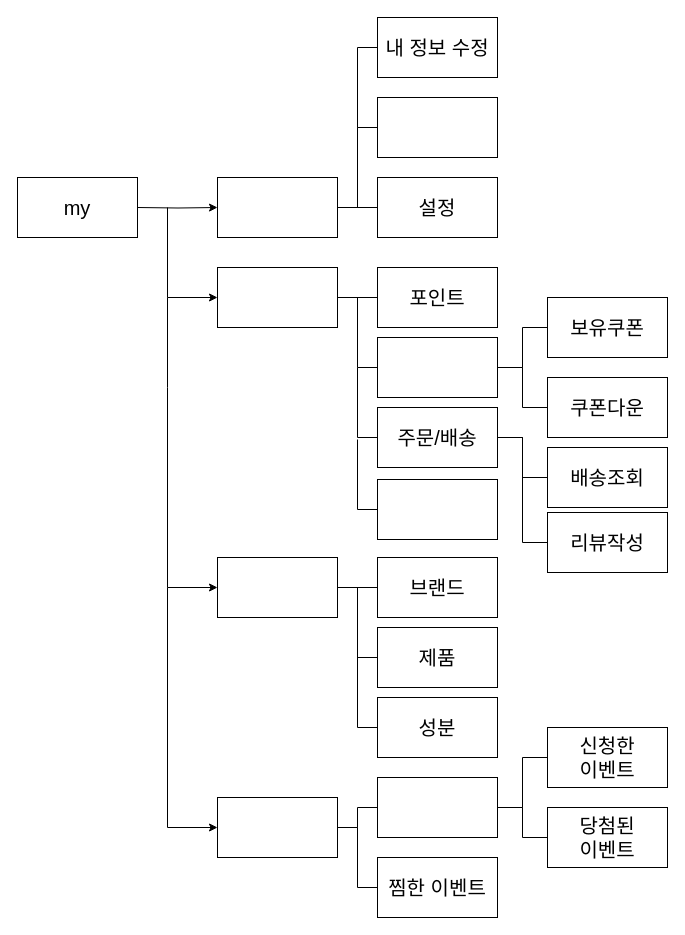
This 685x935 diagram has some shape labels left out. Each missing label, with the box of its shape:
내 정보: (216, 176, 338, 238)
이벤트 배송지 수정: (376, 96, 498, 158)
이벤트 신청내역: (376, 776, 498, 838)
즐겨찾기: (216, 556, 338, 618)
찜한상품: (376, 478, 498, 540)
쿠폰함: (376, 336, 498, 398)
화해쇼핑: (216, 266, 338, 328)
화해이벤트: (216, 796, 338, 858)
